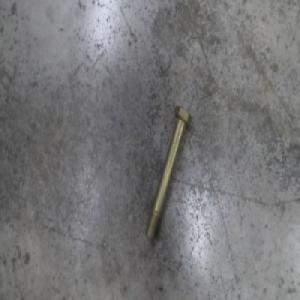Bolt: (144, 105, 191, 242)
